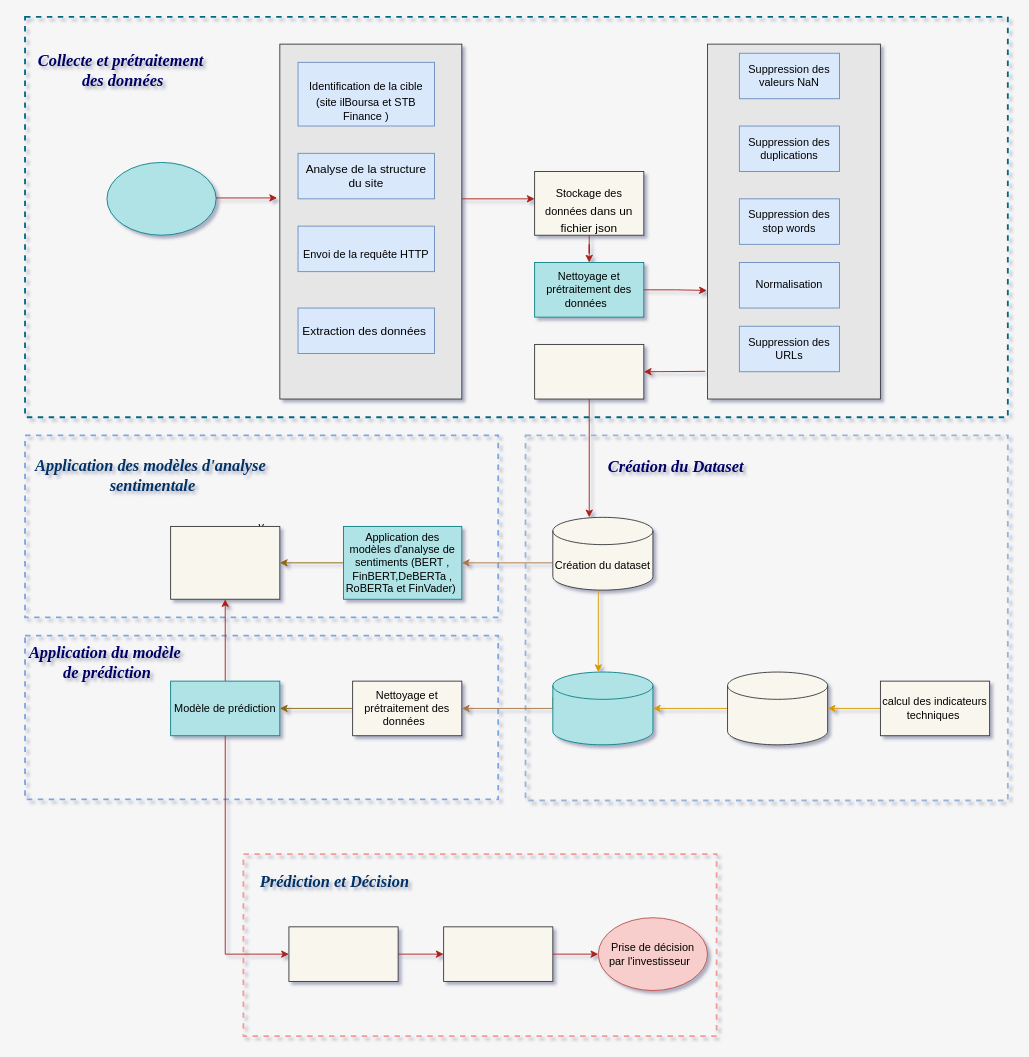
Image size: 1029x1057. Some labels were removed from this diagram. The centre of each missing label's shape, as x and y in pixels:
"Création du dataset local" goes at [777,708].
"Dataset final" goes at [602,708].
"Labellisation des actualités manuellement" goes at [589,371].
"Scores de sentiment" goes at [343,953].
"Stock price forecasting" goes at [498,953].
"Web Scraping" goes at [161,198].
"Évaluation du modèle" goes at [225,562].
